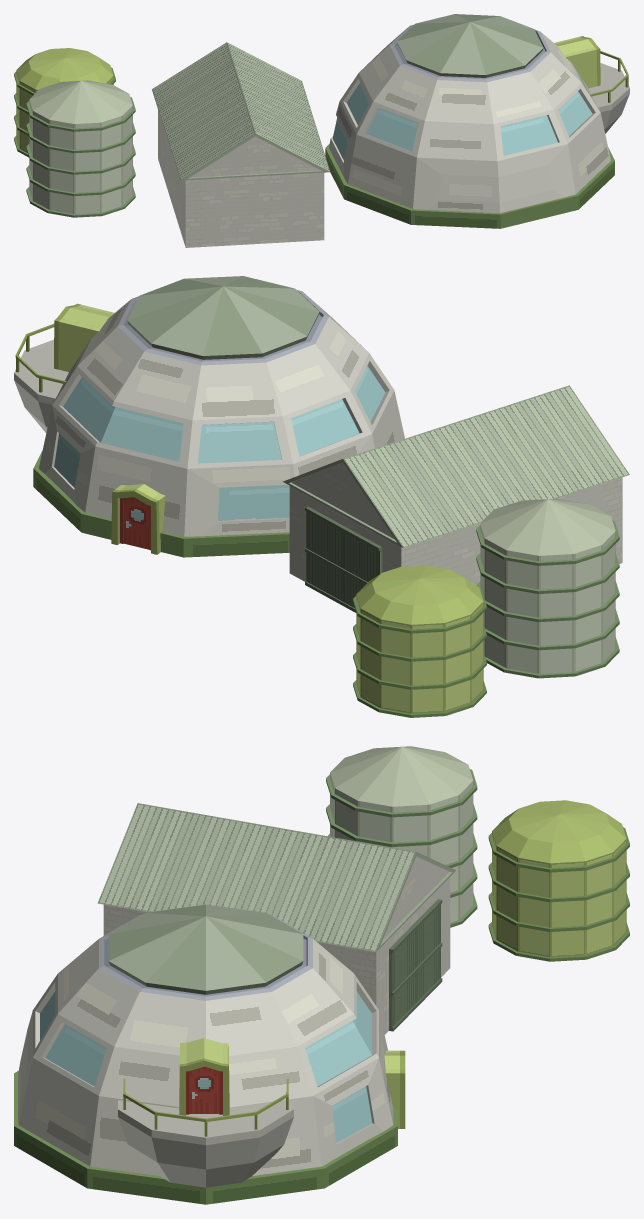
The model's file is W.Player_house.gltf.
3 renders of one model, top to bottom at view 1: azimuth 30°, elevation 25°; view 2: azimuth 150°, elevation 25°; view 3: azimuth 270°, elevation 25°, orthographic. The views are drawn at different scales.
Visible parts, largest first — view 1: s1_1, cuboid, cylinder (×2); view 2: s1_1, cylinder (×2), cuboid; view 3: s1_1, cuboid, cylinder (×2).
Part boxes in pixels (left/top/right/bottom): s1_1: left=325, top=14, right=629, bottom=228; cuboid: left=152, top=42, right=330, bottom=247; cylinder (×2): left=14, top=48, right=135, bottom=217; s1_1: left=14, top=276, right=404, bottom=557; cylinder (×2): left=353, top=498, right=619, bottom=717; cuboid: left=283, top=385, right=629, bottom=612; s1_1: left=14, top=904, right=405, bottom=1204; cuboid: left=97, top=803, right=456, bottom=1034; cylinder (×2): left=326, top=746, right=629, bottom=961.
Size of the model in its own units: 9.46 by 2.57 by 7.04.
3 materials, 3 textured.
